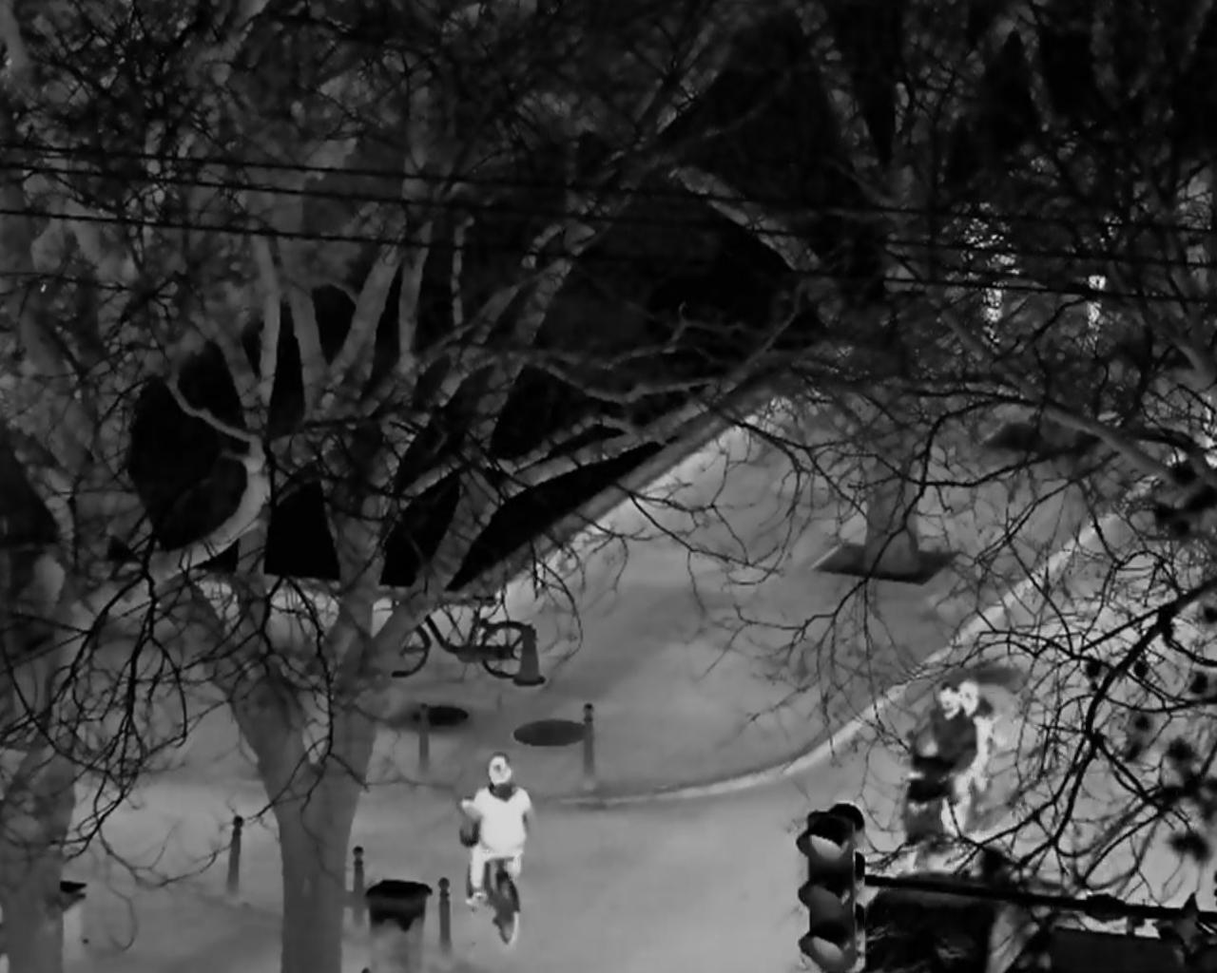person: (460, 753, 535, 910), (896, 682, 977, 805)
